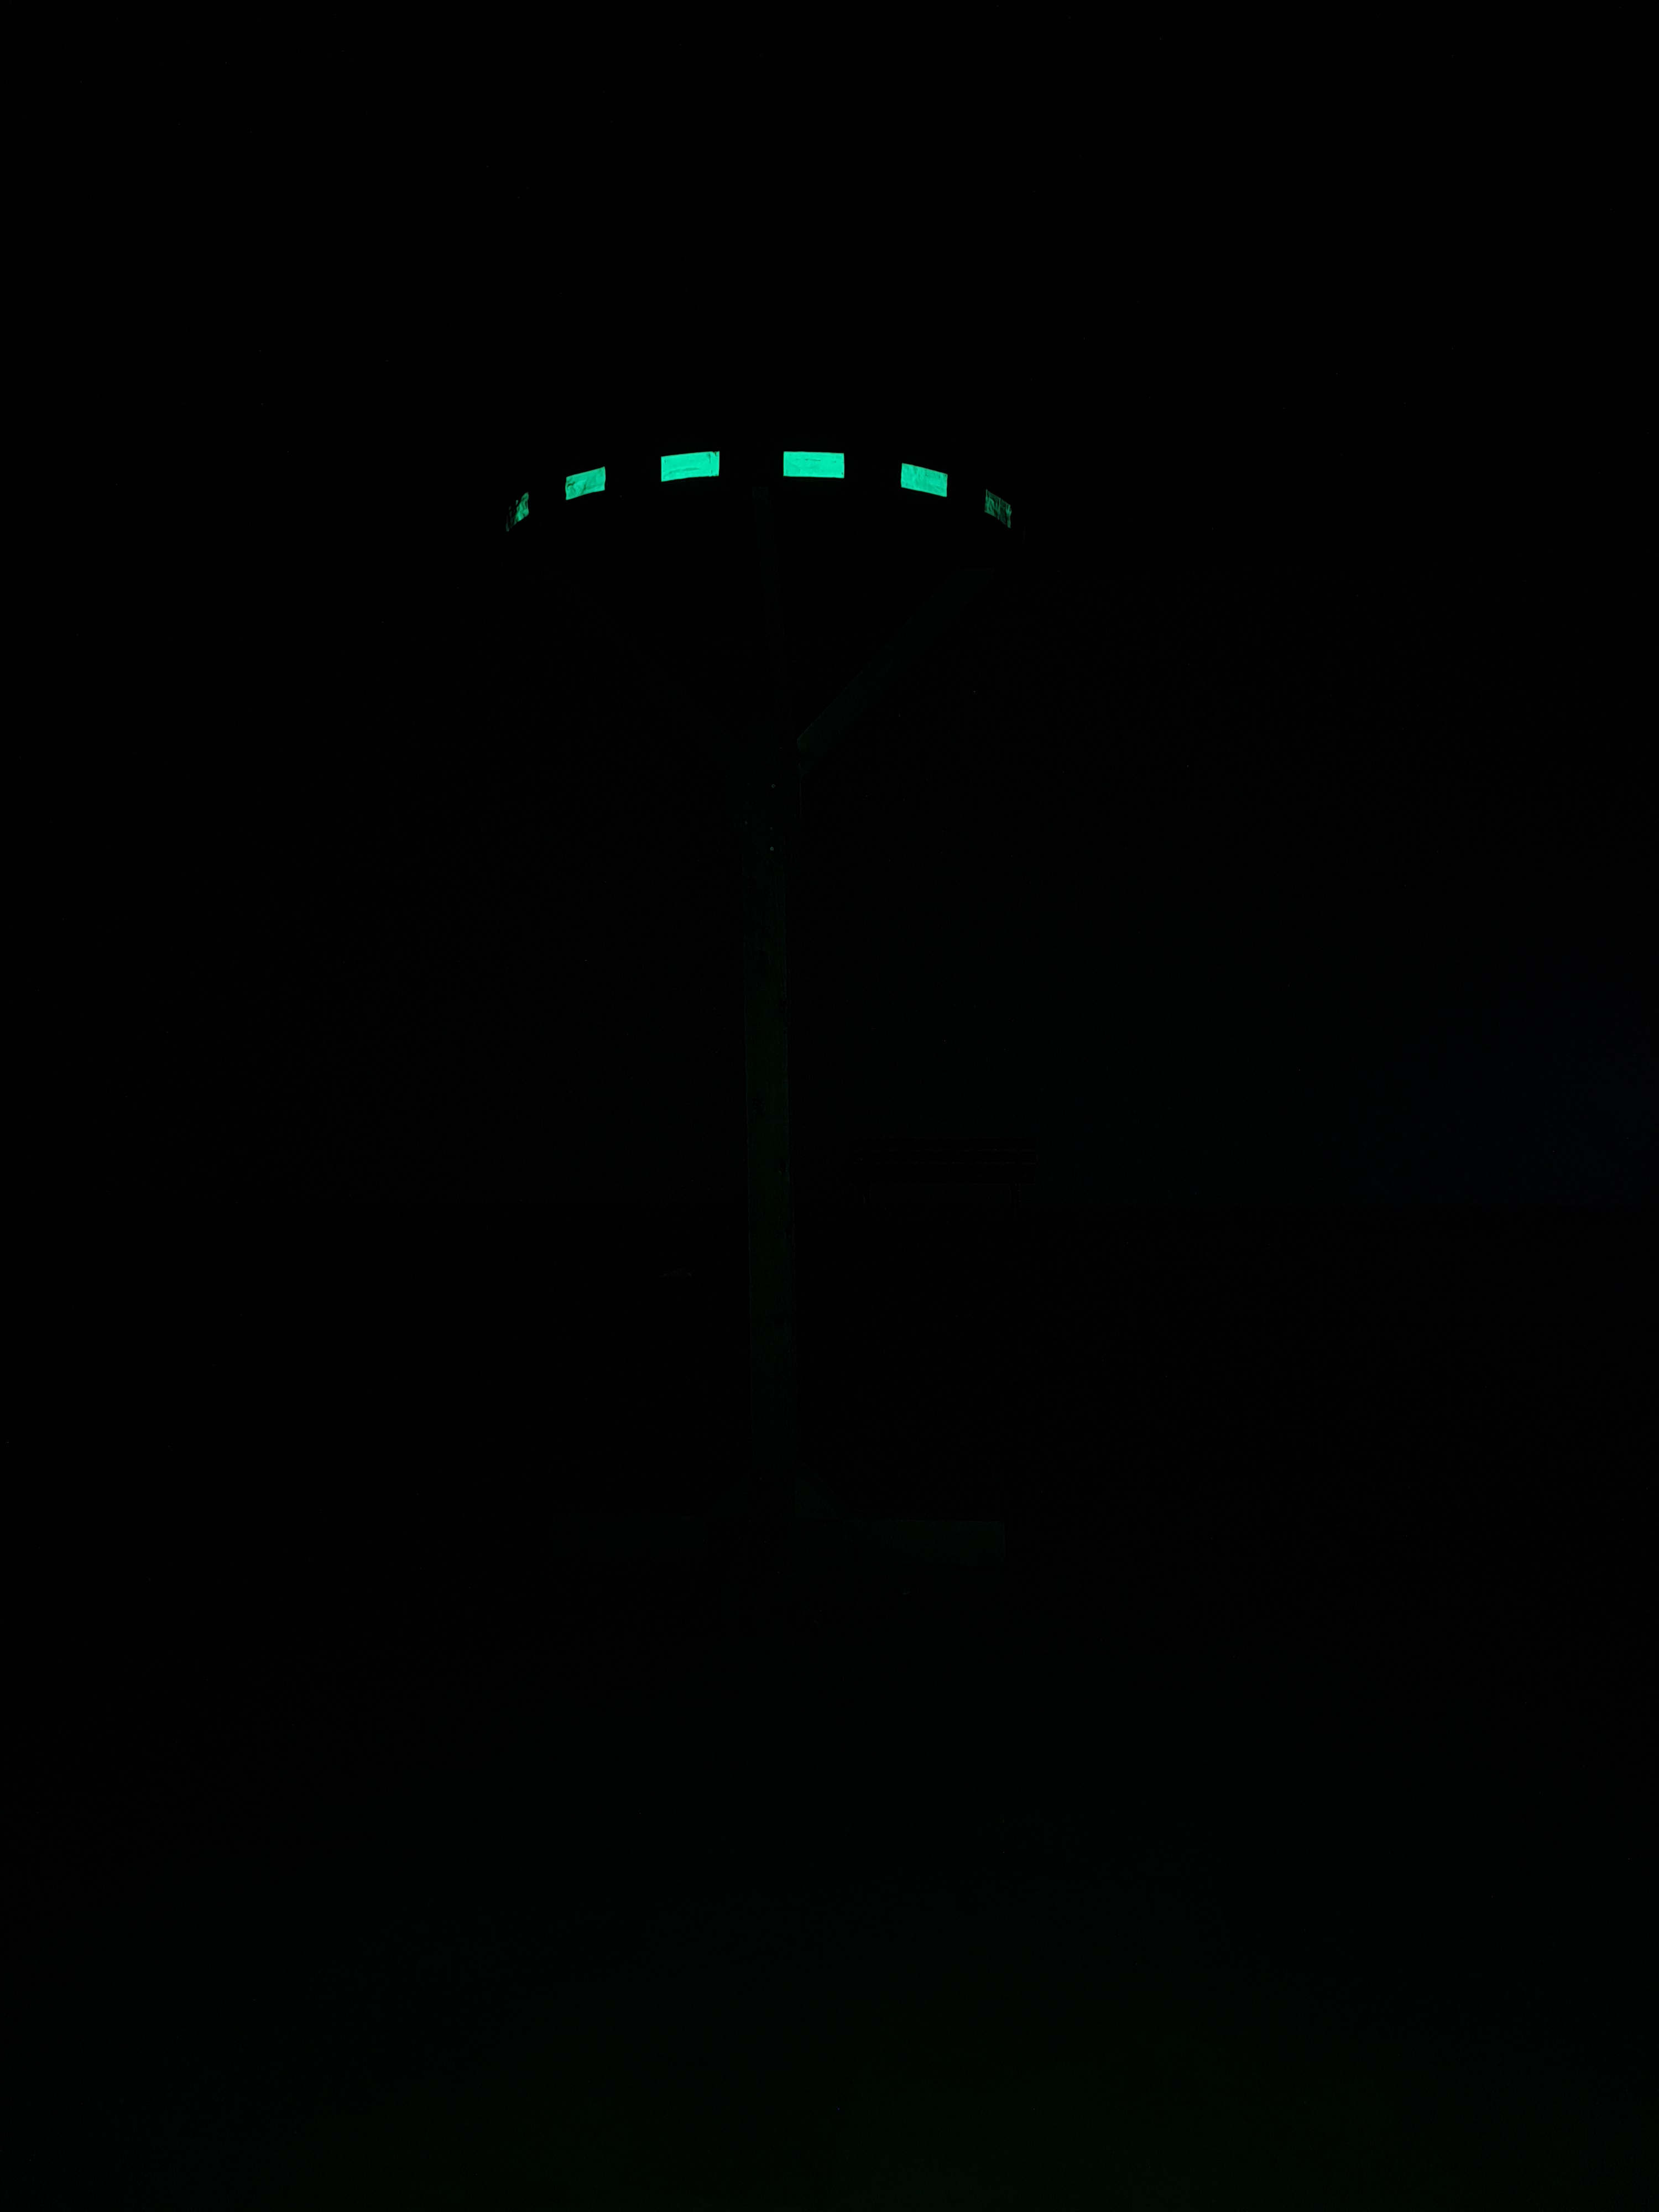hoop: (502, 448, 1014, 536)
